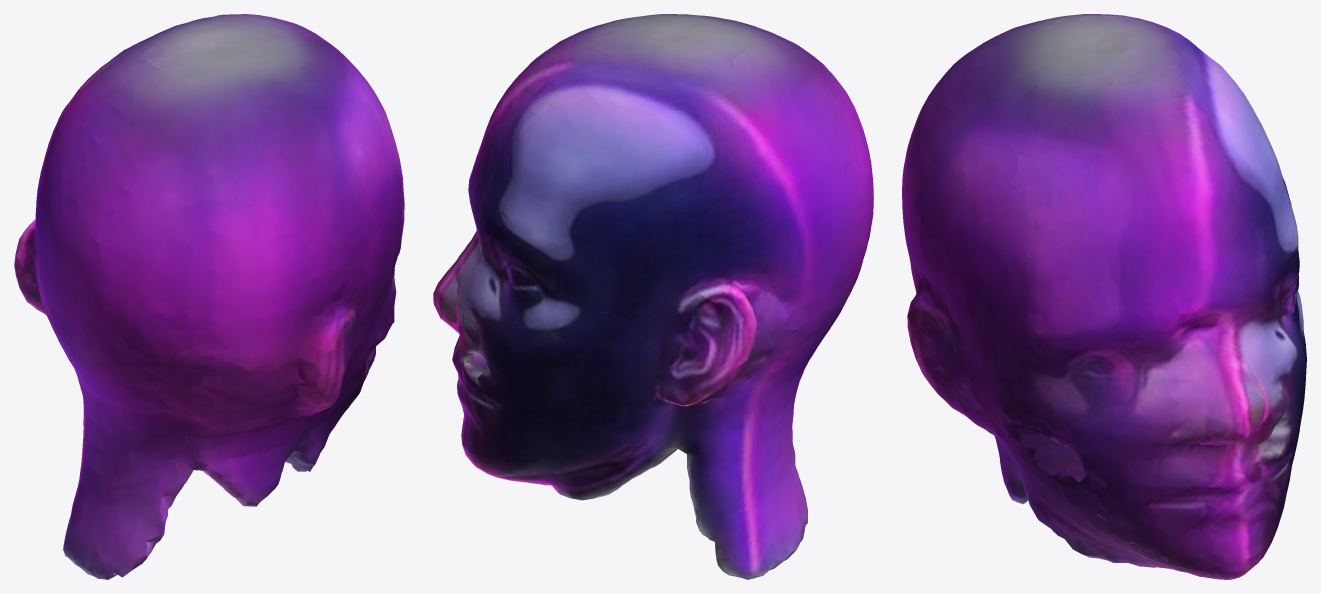
The model's file is tmpbpapeotw.glb.
The picture shows the model from 3 angles, left to right: view 1: azimuth 30°, elevation 25°; view 2: azimuth 150°, elevation 25°; view 3: azimuth 270°, elevation 25°; orthographic projection. The views are drawn at different scales.
Parts seen in each view (by area): view 1: world; view 2: world; view 3: world.
Boxes of the visible parts, x1=… form: world: x1=14, y1=14, x2=404, y2=579; world: x1=433, y1=14, x2=873, y2=579; world: x1=902, y1=14, x2=1306, y2=579.
Bounding box in the file's own units: 0.6502 × 0.8819 × 0.5961.
1 material, 1 textured.
